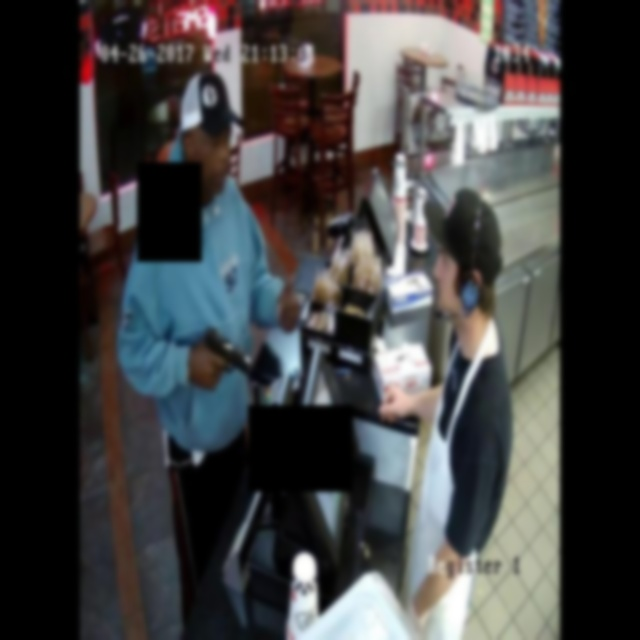gun: (189, 313, 263, 390)
